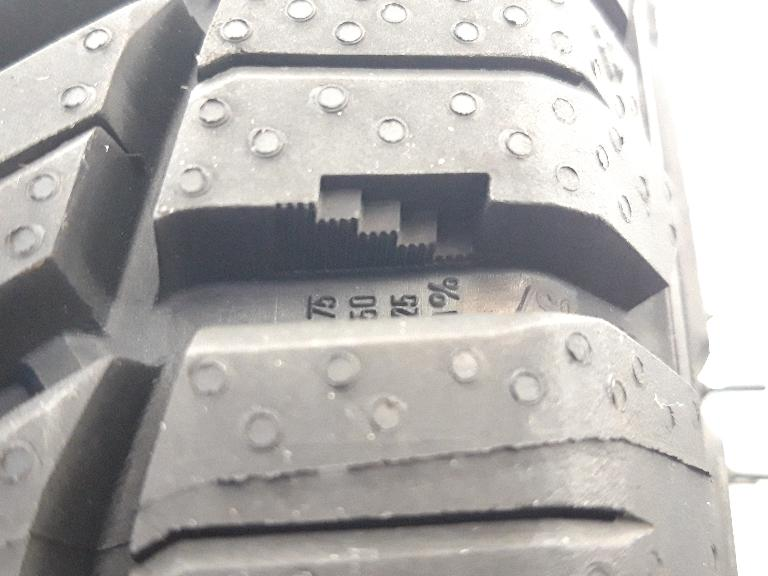temoin:100: (263, 161, 502, 287)
